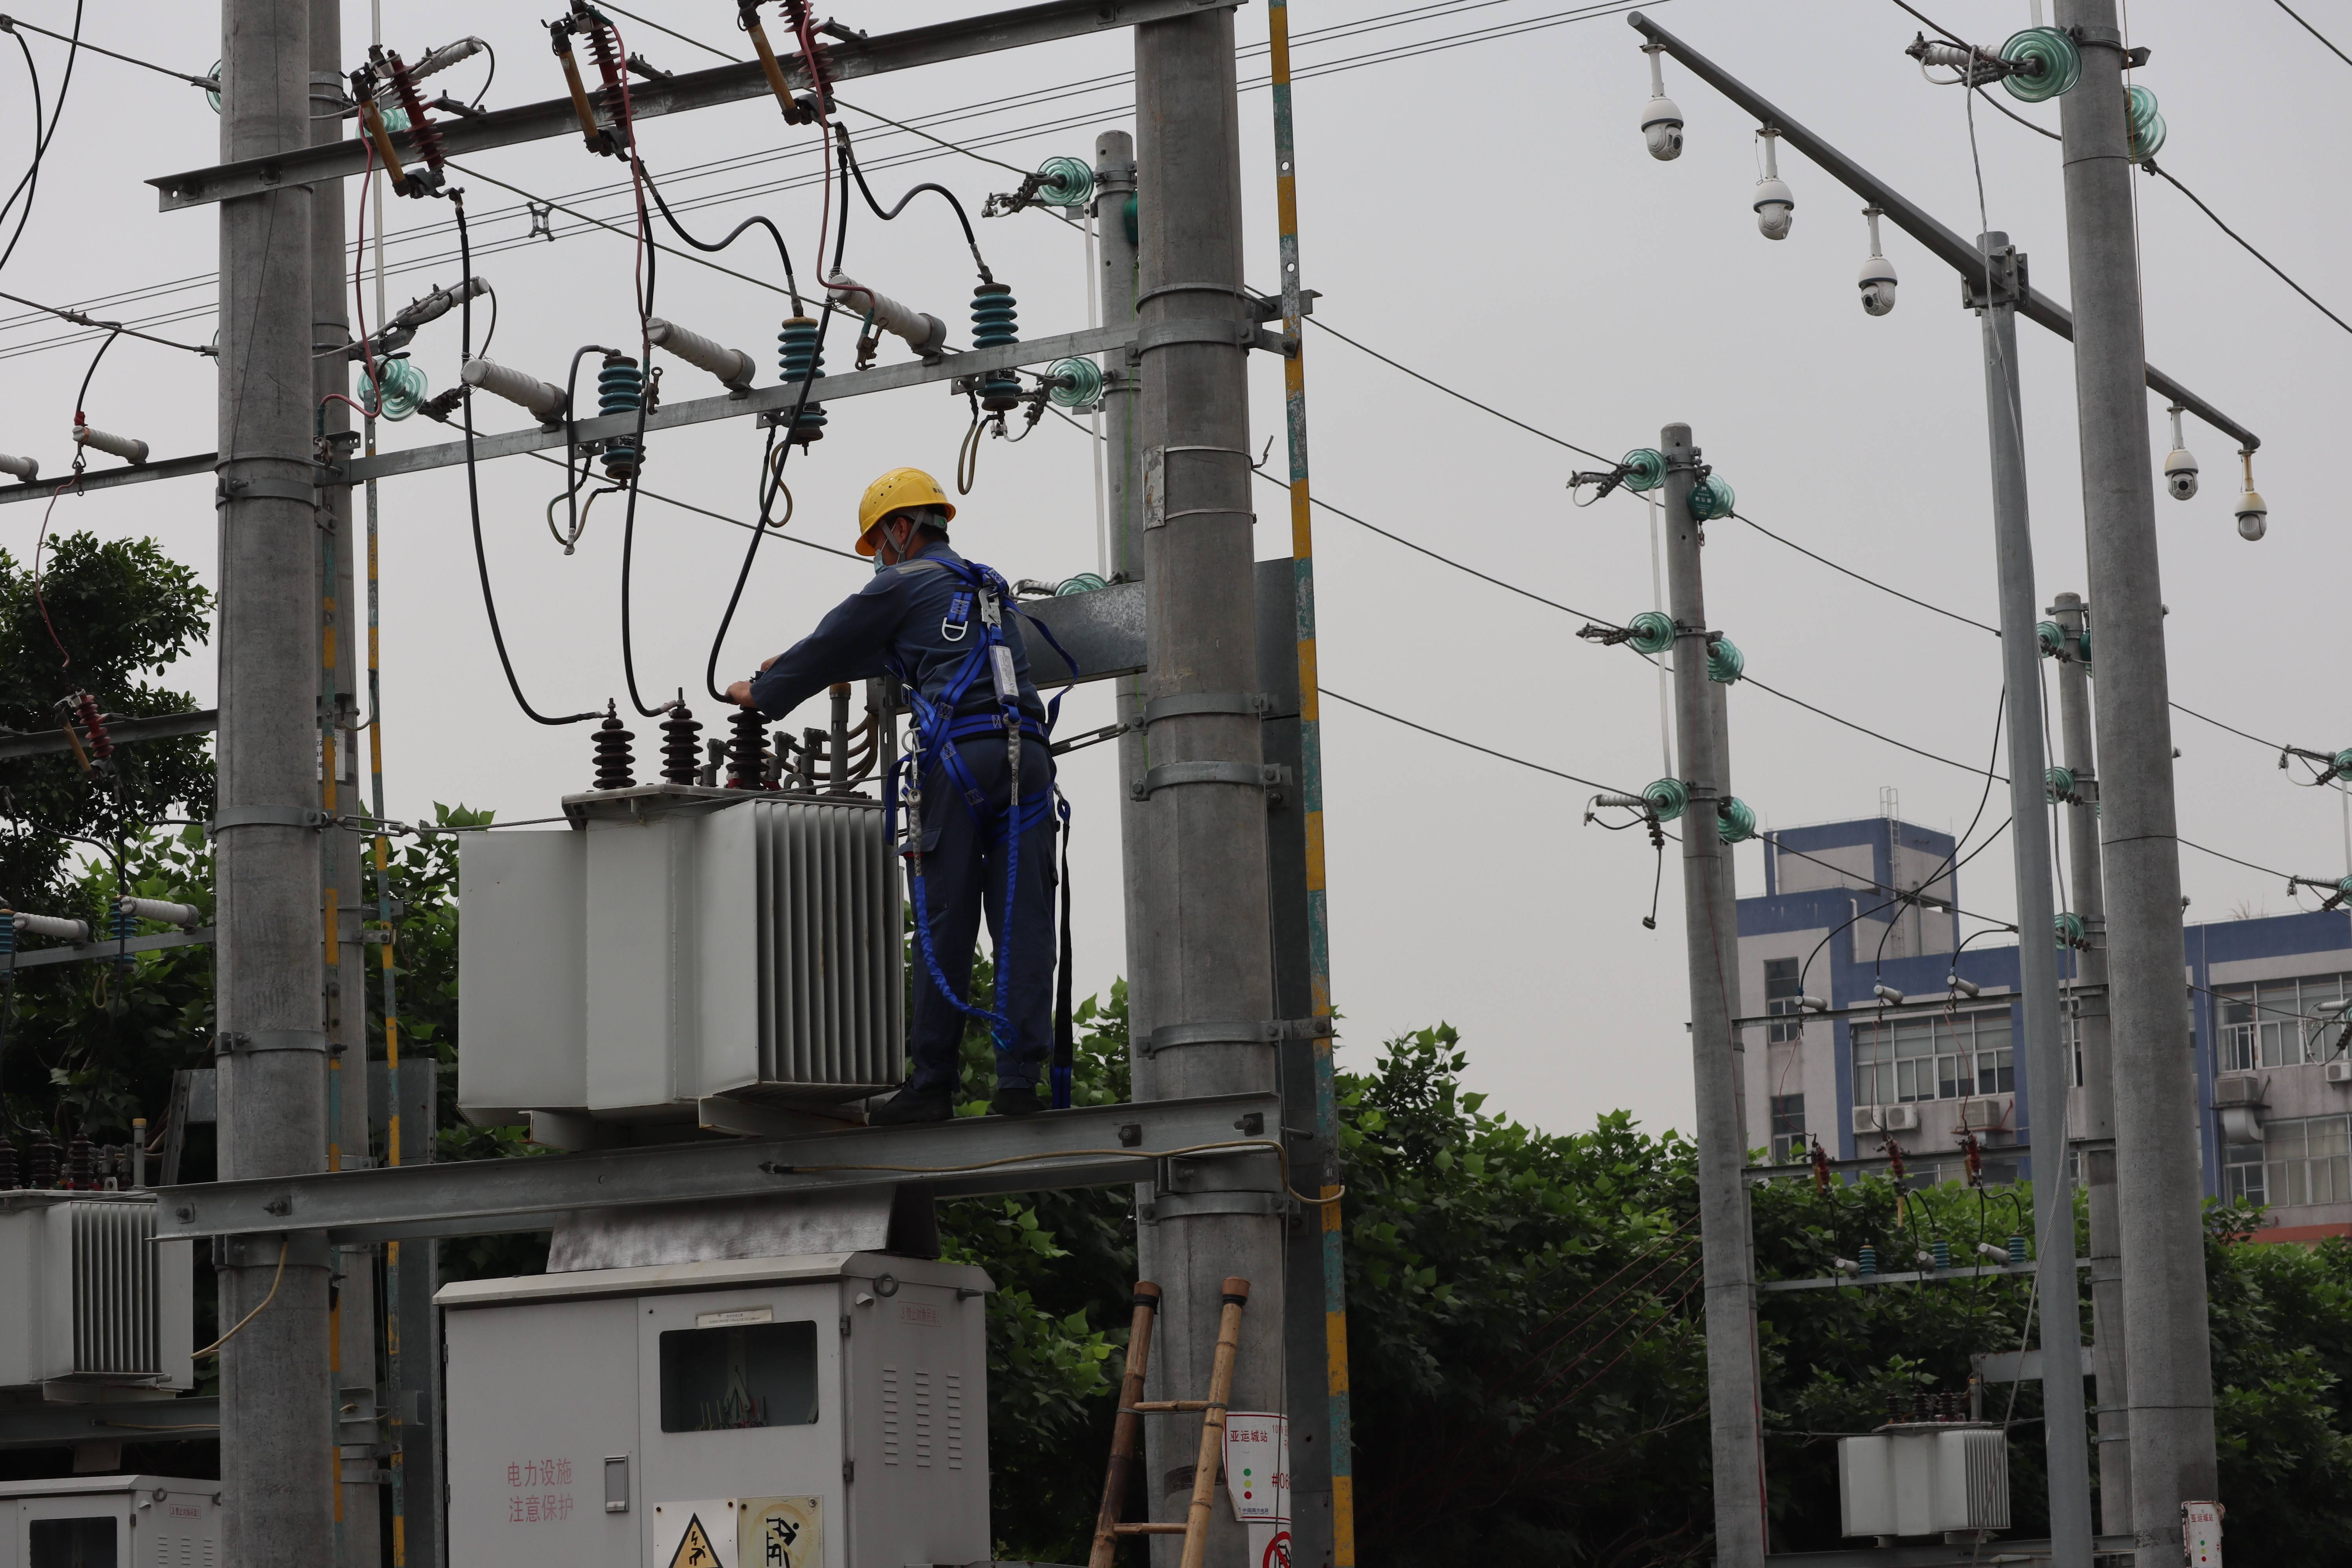downsuit: (903, 758, 1055, 1083)
upsuit: (761, 555, 1041, 746)
